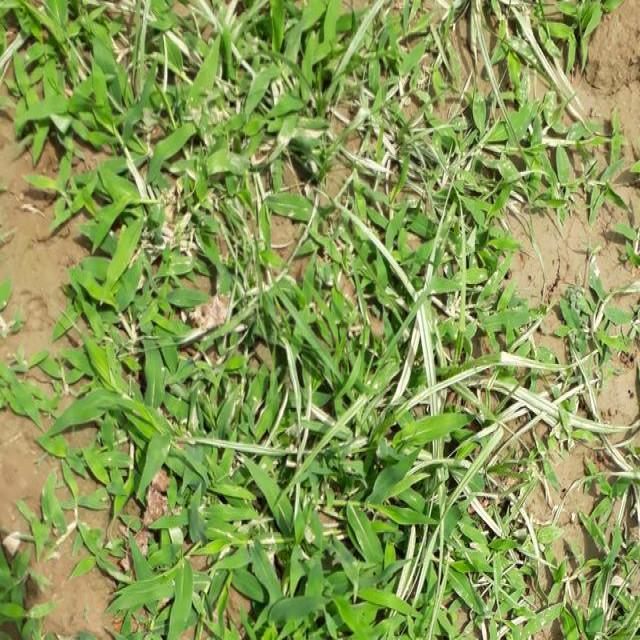weed: (18, 5, 526, 640)
